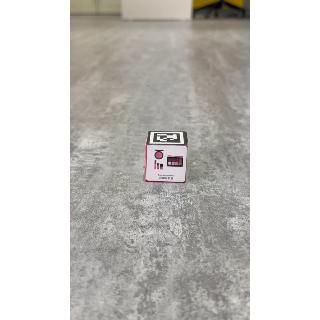Expired_Cosmetic: (147, 144, 188, 184)
